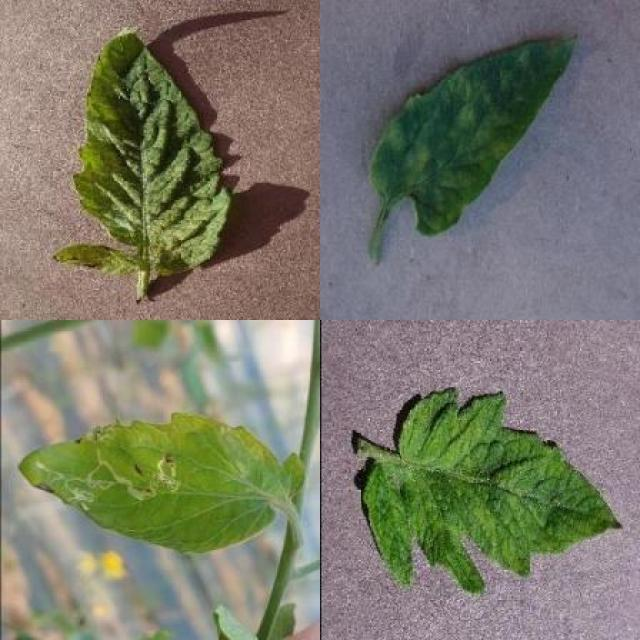Leaf Miner: (18, 412, 305, 555)
Leaf Mold: (372, 34, 577, 235)
Mosaic Virus: (362, 386, 625, 596)
Spider Mites: (52, 25, 232, 278)
